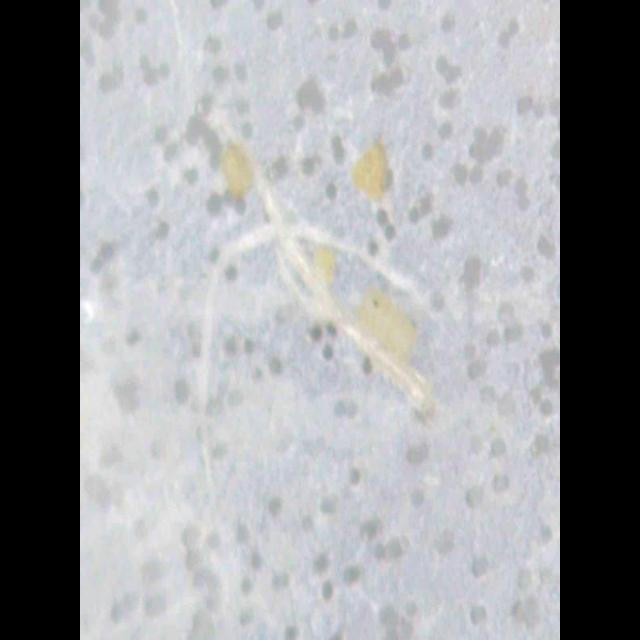Fibre: (194, 134, 442, 548)
